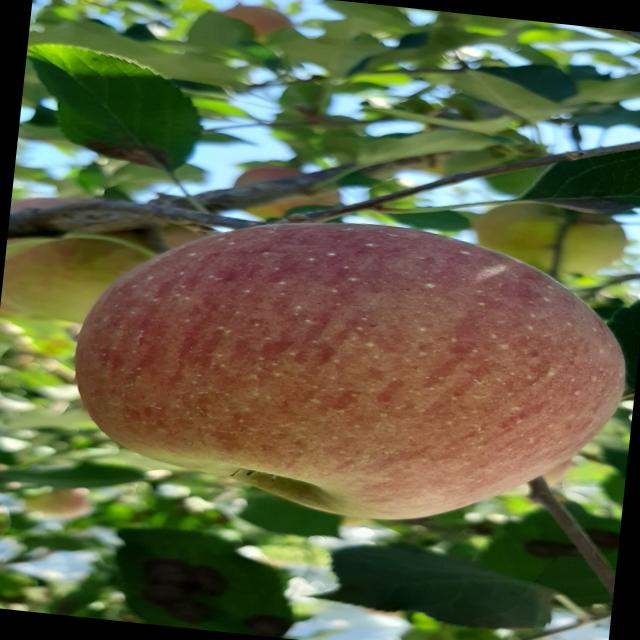fresh: (47, 183, 640, 557)
